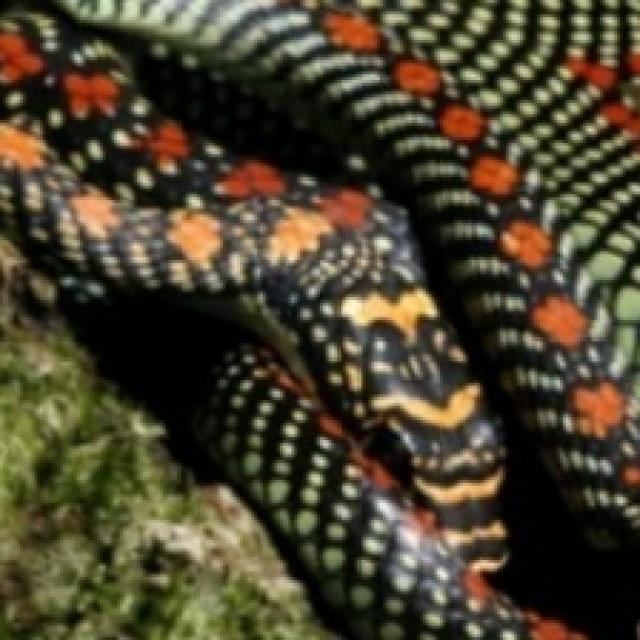paradise tree snake: (0, 11, 577, 637), (491, 140, 637, 506), (297, 54, 437, 137), (440, 117, 477, 131)
